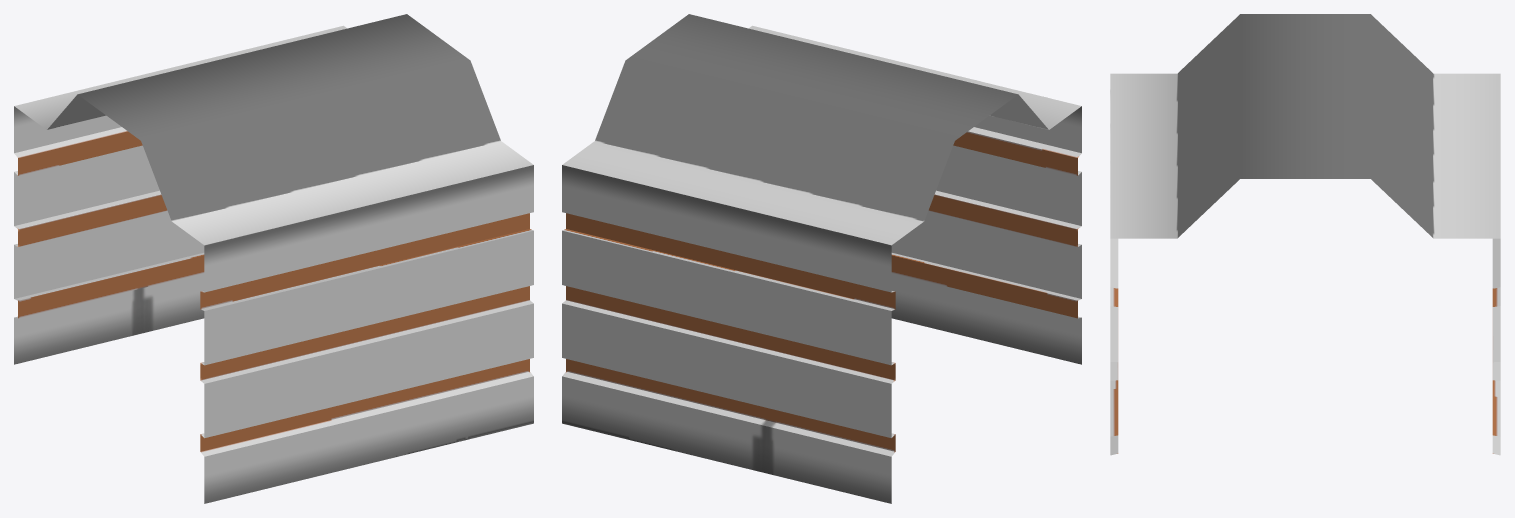
The model's file is spaceStation_roof_b.fbx.
The picture shows the model from 3 angles, left to right: view 1: azimuth 30°, elevation 25°; view 2: azimuth 150°, elevation 25°; view 3: azimuth 270°, elevation 25°; orthographic projection. The views are drawn at different scales.
Visible parts, largest first — view 1: Plane; view 2: Plane; view 3: Plane.
Part boxes in pixels (bbox=[...]): Plane: bbox=[14, 14, 533, 503]; Plane: bbox=[562, 14, 1081, 503]; Plane: bbox=[1110, 14, 1500, 455].
Size of the model in its own units: 8 by 7.35 by 8.
Materials: 1 (1 with a texture image).
